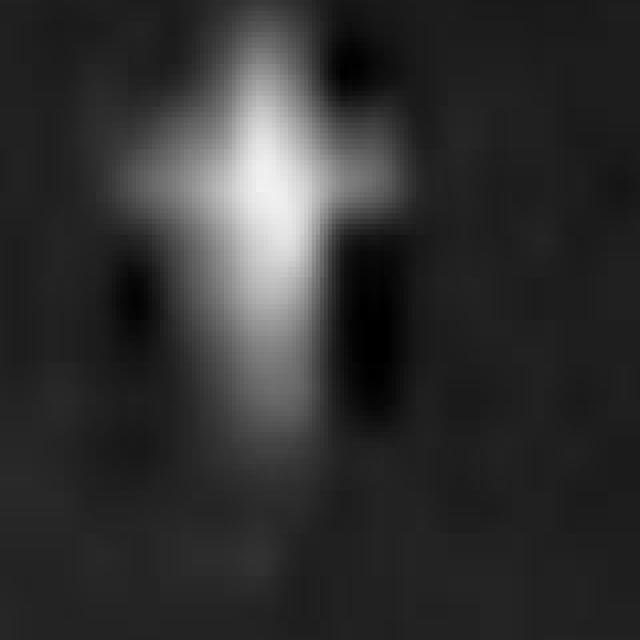person: (141, 1, 357, 438)
